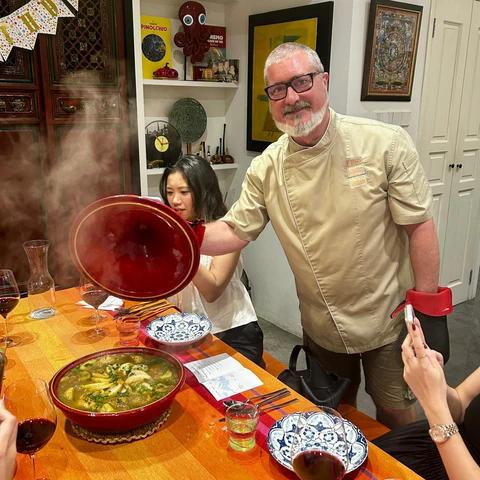controlled_fire: (46, 62, 163, 449)
